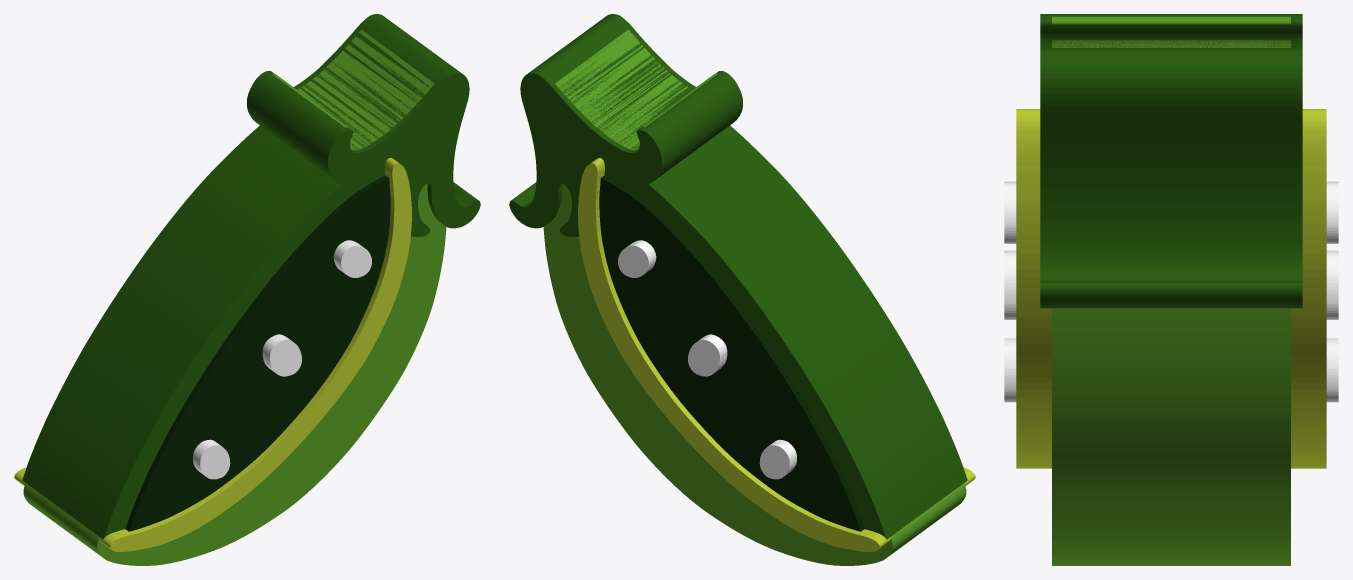
File: U+1FADB.obj
3 views of the same model, side by side, from view 1: azimuth 30°, elevation 25°; view 2: azimuth 150°, elevation 25°; view 3: azimuth 270°, elevation 25° (orthographic). The views are drawn at different scales.
Parts seen in each view (by area): view 1: U+1FADB_layer01_obj00, U+1FADB_layer02_obj01, U+1FADB_layer01_obj01, U+1FADB_layer00_obj01, U+1FADB_layer03_obj00, U+1FADB_layer00_obj04, U+1FADB_layer04_obj01, U+1FADB_layer00_obj02, U+1FADB_layer02_obj02, U+1FADB_layer04_obj02, U+1FADB_layer04_obj00, U+1FADB_layer02_obj00; view 2: U+1FADB_layer01_obj00, U+1FADB_layer02_obj01, U+1FADB_layer01_obj01, U+1FADB_layer00_obj01, U+1FADB_layer03_obj00, U+1FADB_layer00_obj04, U+1FADB_layer04_obj01, U+1FADB_layer00_obj02, U+1FADB_layer04_obj02, U+1FADB_layer04_obj00, U+1FADB_layer02_obj00; view 3: U+1FADB_layer01_obj01, U+1FADB_layer00_obj01, U+1FADB_layer03_obj00, U+1FADB_layer00_obj04, U+1FADB_layer04_obj01, U+1FADB_layer04_obj02, U+1FADB_layer04_obj00.
Part boxes in pixels (bbox=[...]): U+1FADB_layer01_obj00: bbox=[22, 125, 401, 539]; U+1FADB_layer02_obj01: bbox=[125, 175, 390, 531]; U+1FADB_layer01_obj01: bbox=[247, 14, 480, 236]; U+1FADB_layer00_obj01: bbox=[23, 183, 446, 565]; U+1FADB_layer03_obj00: bbox=[14, 158, 411, 551]; U+1FADB_layer00_obj04: bbox=[272, 29, 434, 150]; U+1FADB_layer04_obj01: bbox=[262, 334, 301, 376]; U+1FADB_layer00_obj02: bbox=[187, 472, 272, 538]; U+1FADB_layer02_obj02: bbox=[307, 308, 359, 357]; U+1FADB_layer04_obj02: bbox=[193, 439, 230, 479]; U+1FADB_layer04_obj00: bbox=[333, 240, 371, 277]; U+1FADB_layer02_obj00: bbox=[237, 419, 276, 460]; U+1FADB_layer01_obj00: bbox=[588, 125, 967, 539]; U+1FADB_layer02_obj01: bbox=[599, 175, 864, 531]; U+1FADB_layer01_obj01: bbox=[509, 14, 742, 236]; U+1FADB_layer00_obj01: bbox=[543, 183, 966, 565]; U+1FADB_layer03_obj00: bbox=[578, 158, 975, 551]; U+1FADB_layer00_obj04: bbox=[555, 29, 717, 150]; U+1FADB_layer04_obj01: bbox=[688, 334, 727, 376]; U+1FADB_layer00_obj02: bbox=[717, 473, 803, 538]; U+1FADB_layer04_obj02: bbox=[759, 439, 796, 479]; U+1FADB_layer04_obj00: bbox=[618, 240, 656, 277]; U+1FADB_layer02_obj00: bbox=[713, 419, 752, 460]; U+1FADB_layer01_obj01: bbox=[1040, 14, 1302, 308]; U+1FADB_layer00_obj01: bbox=[1052, 308, 1290, 565]; U+1FADB_layer03_obj00: bbox=[1016, 109, 1326, 468]; U+1FADB_layer00_obj04: bbox=[1052, 16, 1290, 47]; U+1FADB_layer04_obj01: bbox=[1004, 250, 1338, 319]; U+1FADB_layer04_obj02: bbox=[1004, 338, 1338, 402]; U+1FADB_layer04_obj00: bbox=[1004, 181, 1338, 243].
Bounding box in the file's own units: 0.2973 × 0.3173 × 0.14.
